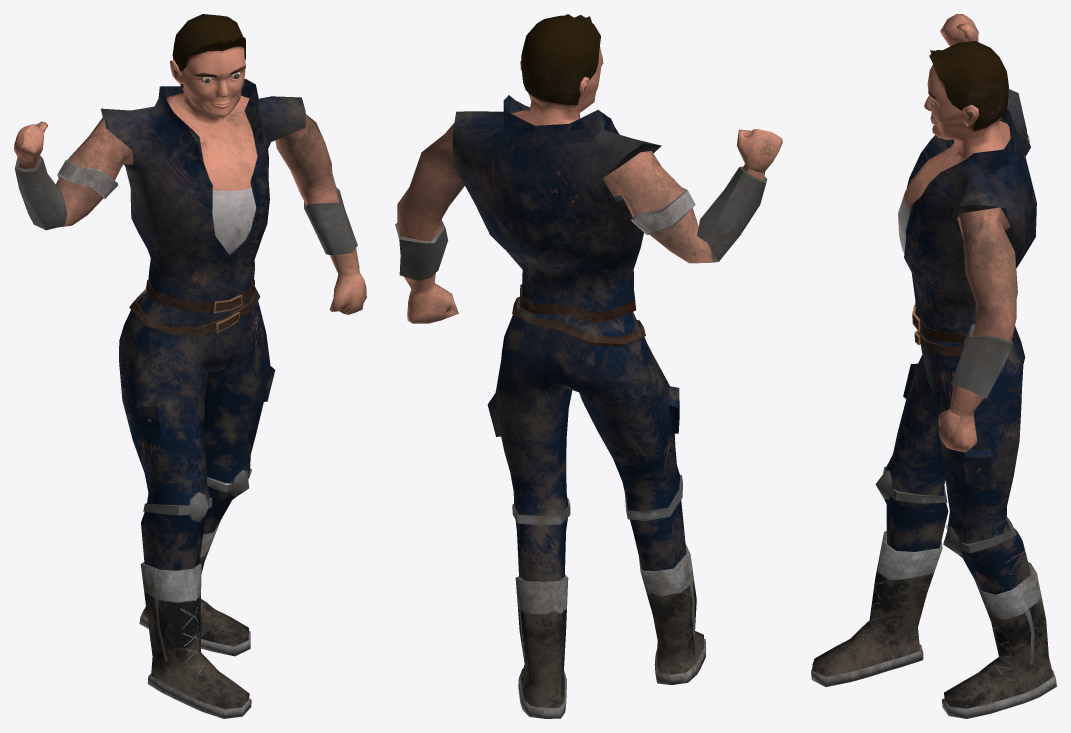
Rendered from Anim_puerta_mal_jugador.0037.obj.
3 views of the same model, side by side, from view 1: azimuth 30°, elevation 25°; view 2: azimuth 150°, elevation 25°; view 3: azimuth 270°, elevation 25° (orthographic). The views are drawn at different scales.
Visible parts, largest first — view 1: polySurface1; view 2: polySurface1; view 3: polySurface1.
Boxes of the visible parts, x1=… form: polySurface1: x1=14, y1=14, x2=366, y2=718; polySurface1: x1=395, y1=14, x2=782, y2=718; polySurface1: x1=811, y1=14, x2=1056, y2=718.
Size of the model in its own units: 5.52 by 9.58 by 3.25.
